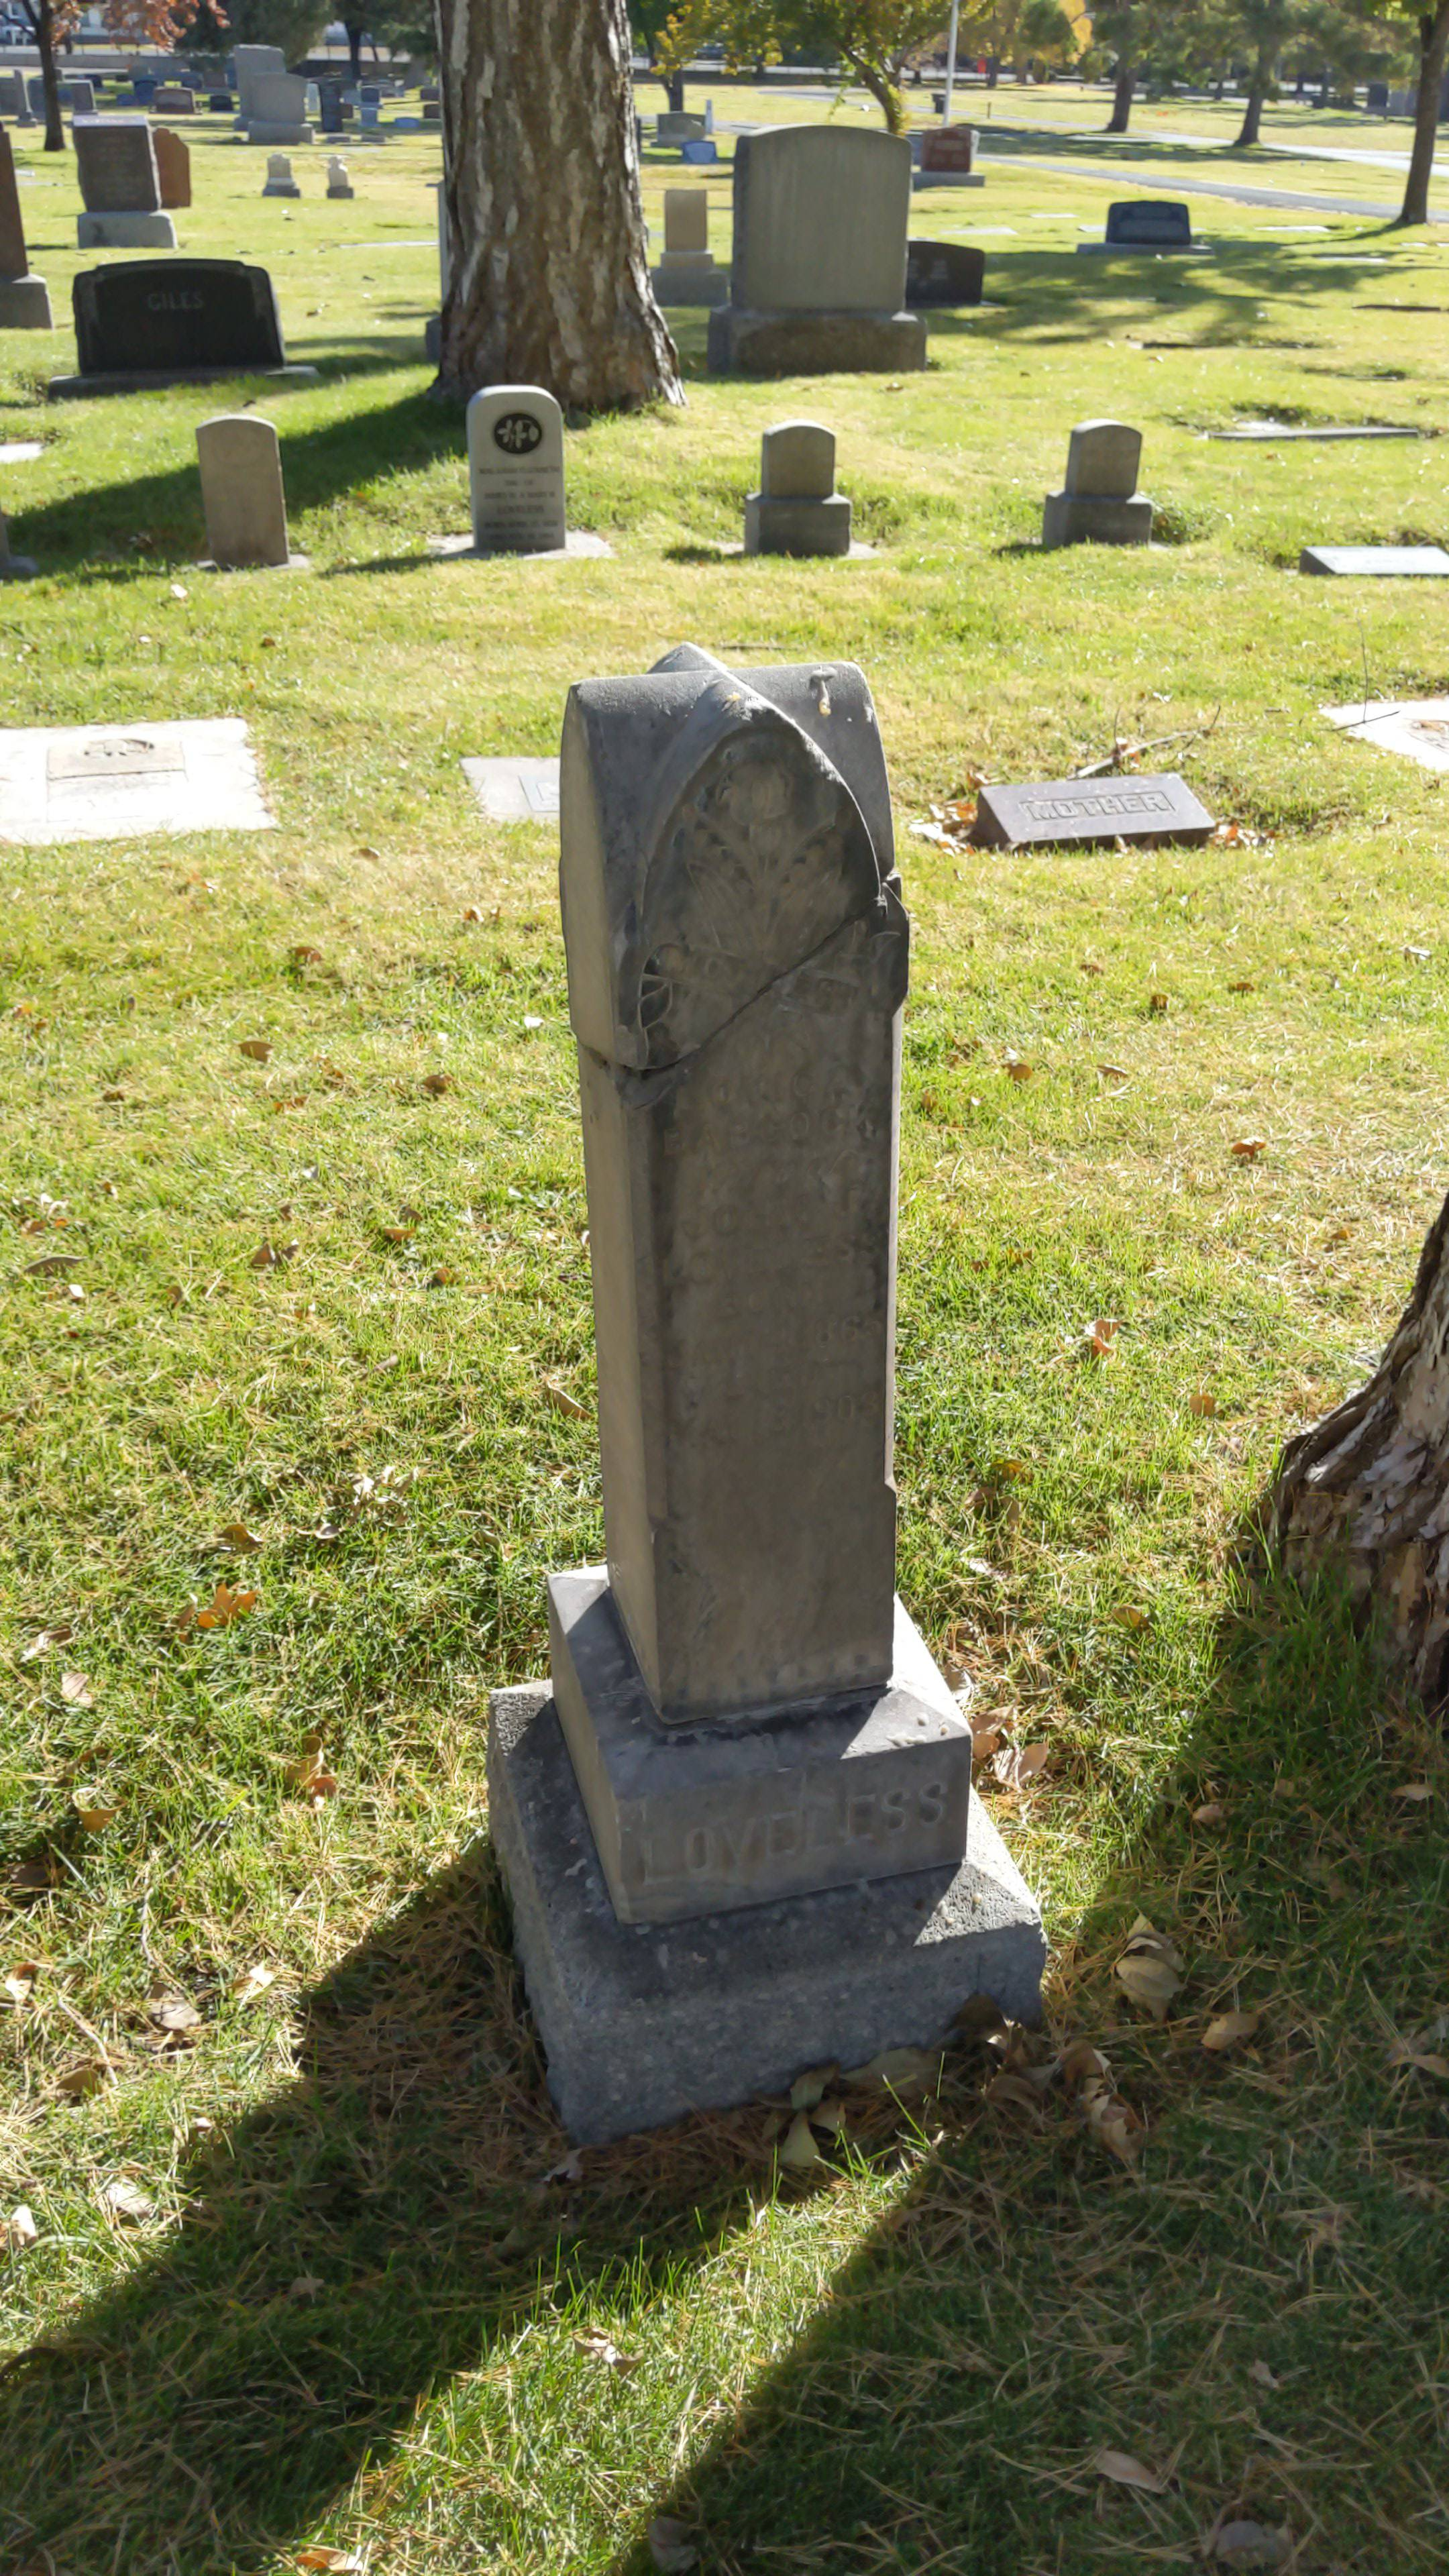obelisk: (541, 644, 977, 1932)
